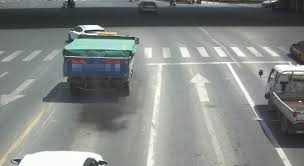smoke: (68, 83, 136, 134)
